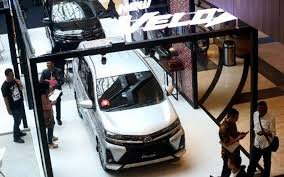mobil: (70, 35, 191, 171)
